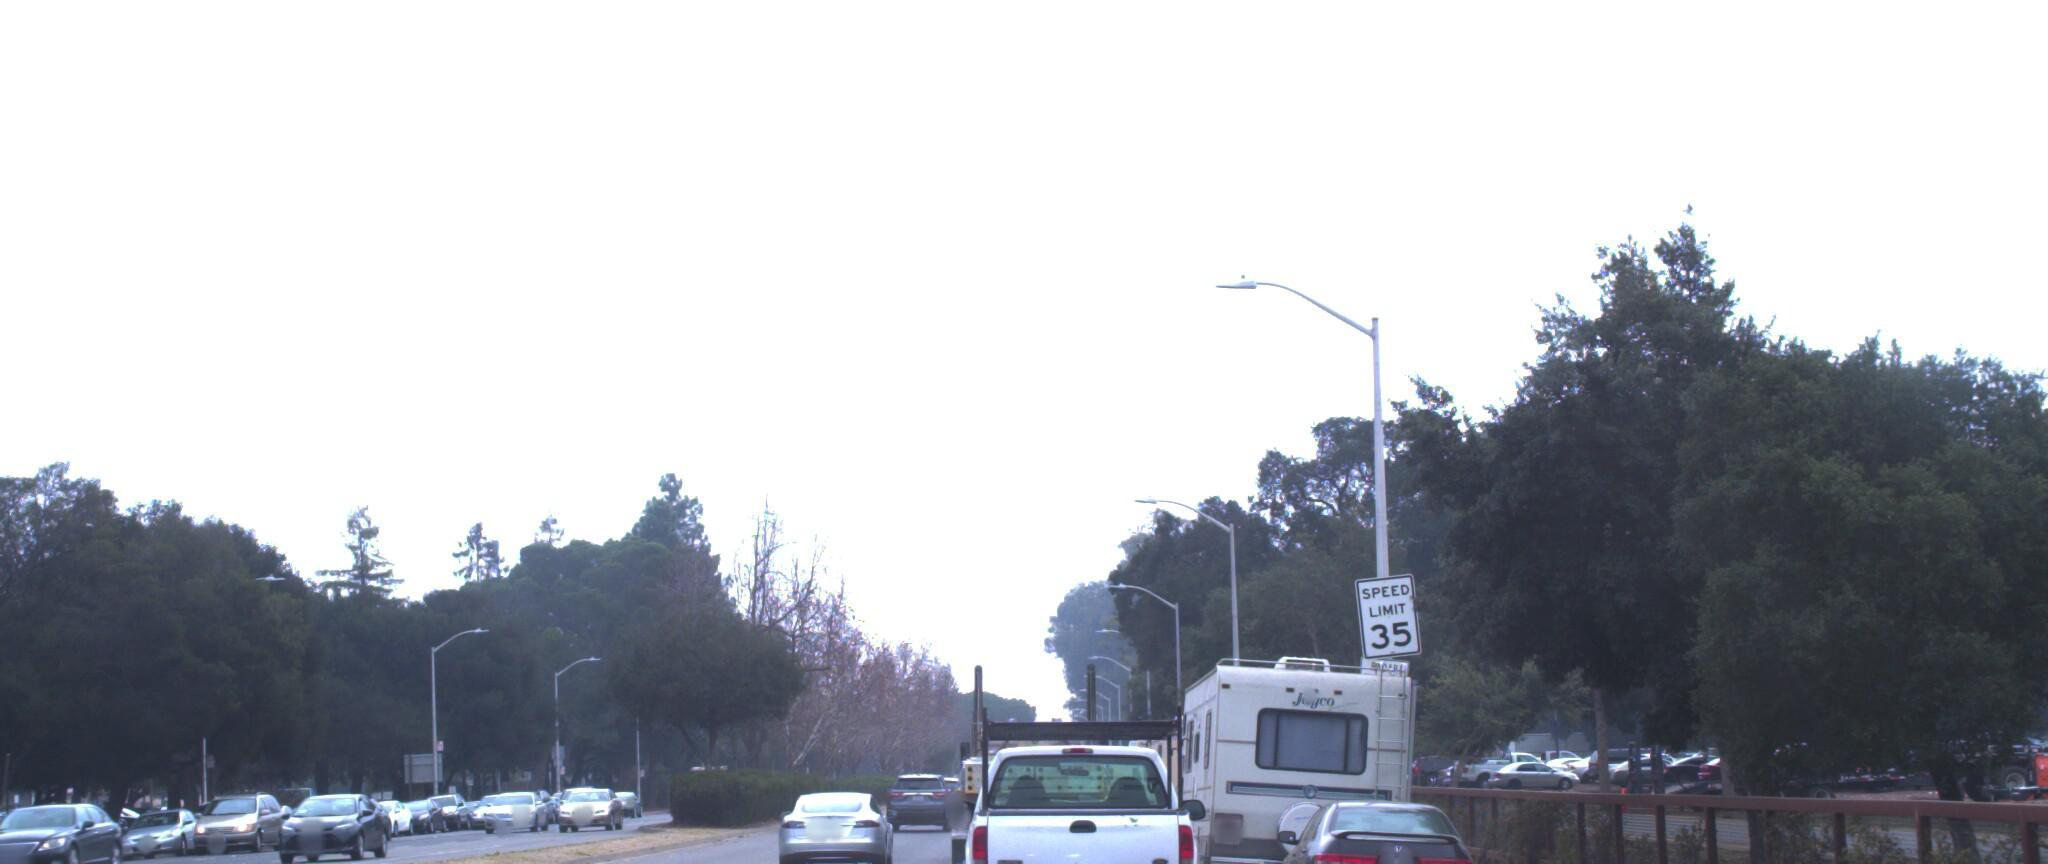car: (0, 521, 159, 864), (955, 671, 1226, 864), (1267, 784, 1482, 864), (925, 745, 1053, 864), (765, 778, 886, 861), (261, 790, 381, 857), (0, 799, 119, 864)
other_vehicle: (1160, 642, 1439, 864)
truck: (969, 647, 1115, 851)
